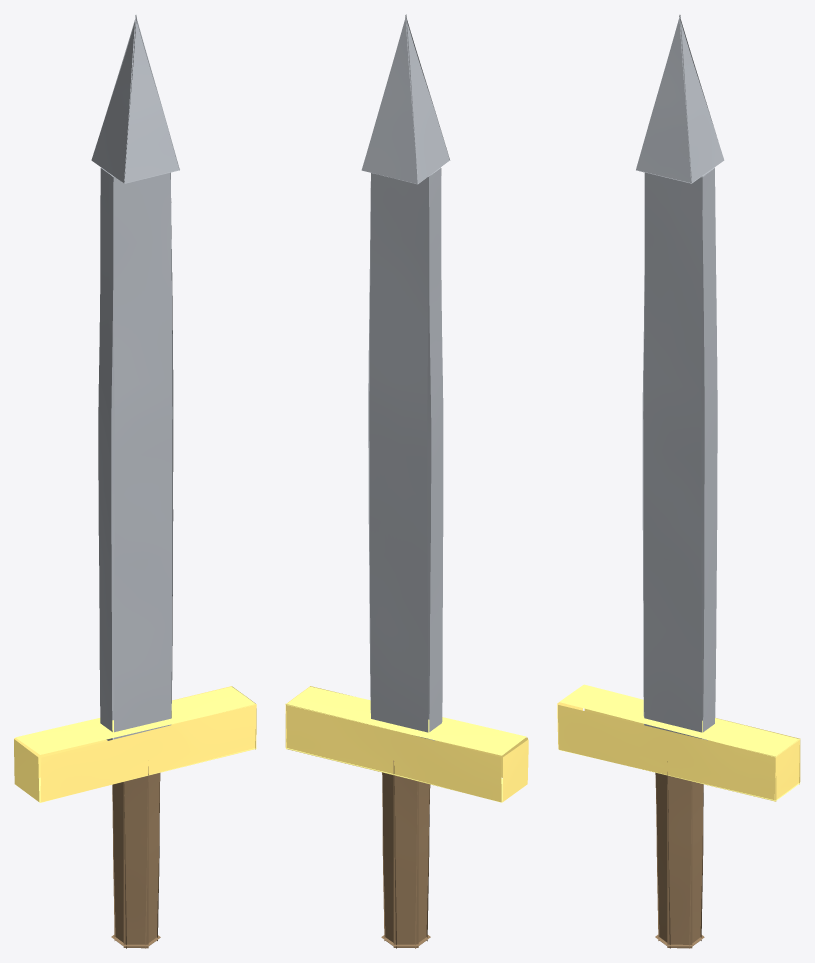
Rendered from greatsword.glb.
The picture shows the model from 3 angles, left to right: view 1: azimuth 30°, elevation 25°; view 2: azimuth 150°, elevation 25°; view 3: azimuth 330°, elevation 25°; orthographic projection.
Parts seen in each view (by area): view 1: GreatswordGrip; view 2: GreatswordGrip; view 3: GreatswordGrip.
Part boxes in pixels (x1=…): GreatswordGrip: x1=14, y1=15, x2=256, y2=948; GreatswordGrip: x1=285, y1=14, x2=528, y2=948; GreatswordGrip: x1=557, y1=15, x2=800, y2=948.
Bounding box in the file's own units: 0.605 × 2.45 × 0.1565.
